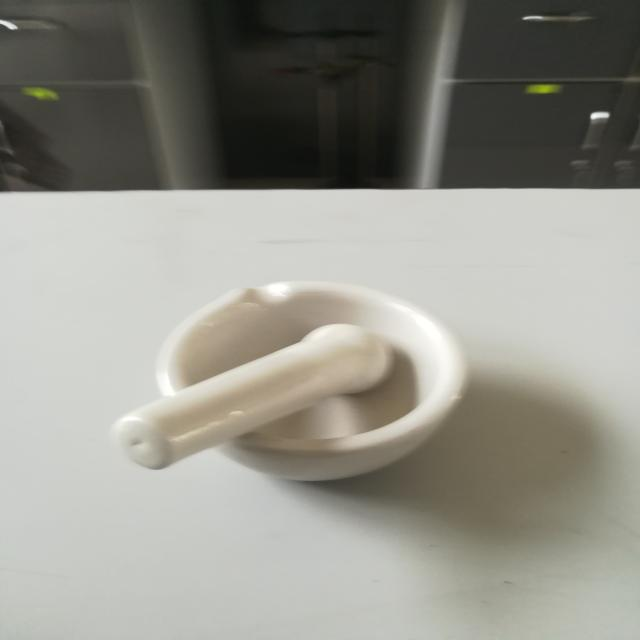Porcelain_Mortar Pestle: (67, 253, 535, 538)
